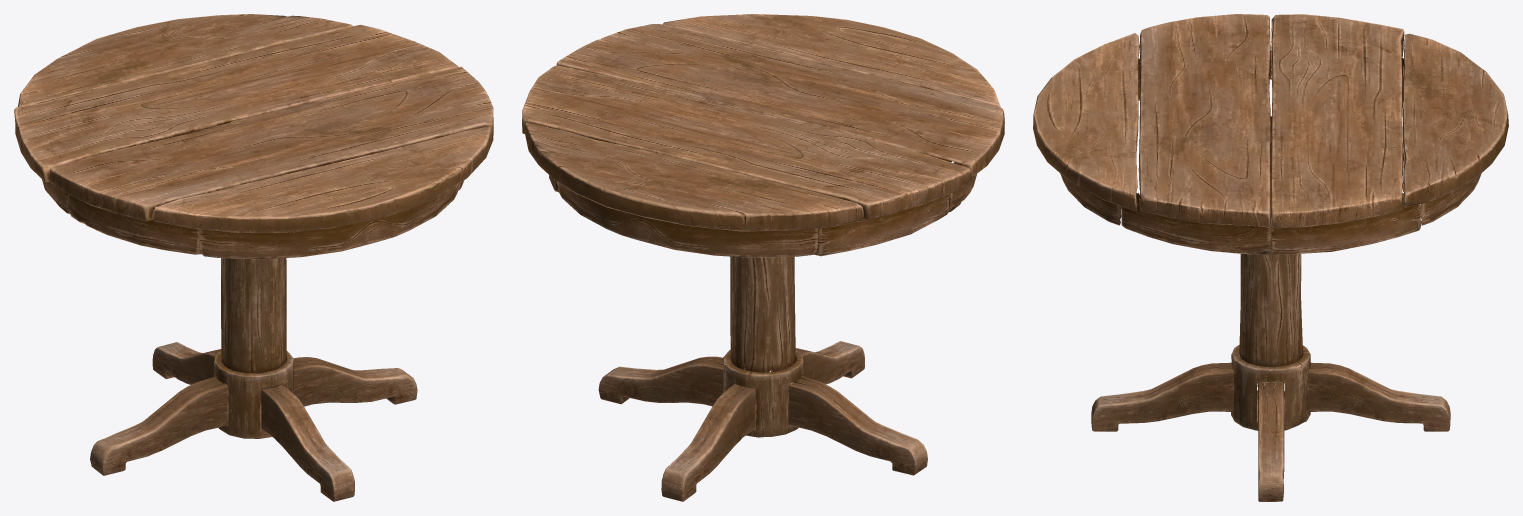
The picture shows the model from 3 angles, left to right: view 1: azimuth 30°, elevation 25°; view 2: azimuth 150°, elevation 25°; view 3: azimuth 270°, elevation 25°; orthographic projection.
Parts seen in each view (by area): view 1: SM_Wooden_Table_01v2_LOD0; view 2: SM_Wooden_Table_01v2_LOD0; view 3: SM_Wooden_Table_01v2_LOD0.
Part boxes in pixels (x1,y1,x2,y2): SM_Wooden_Table_01v2_LOD0: (14,14,493,501); SM_Wooden_Table_01v2_LOD0: (522,14,1004,501); SM_Wooden_Table_01v2_LOD0: (1033,14,1508,501).
Bounding box in the file's own units: 1.2 × 0.8836 × 1.21.
1 material, 1 textured.
